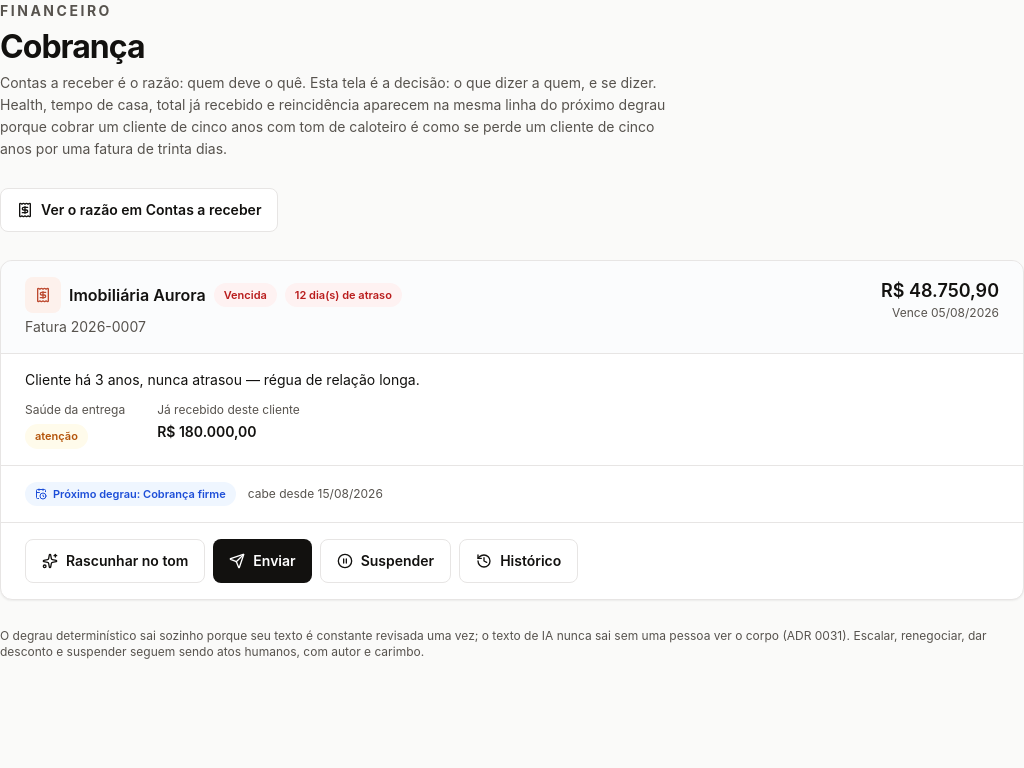
Test: o 503 do envio tem texto próprio: diz que a régua está desligada e onde ligá-la
This screenshot has width=1024, height=768.
Click the button with aria-label "Enviar cobrança".
click(262, 561)  # box top-left (213, 539), bottom-right (312, 583)
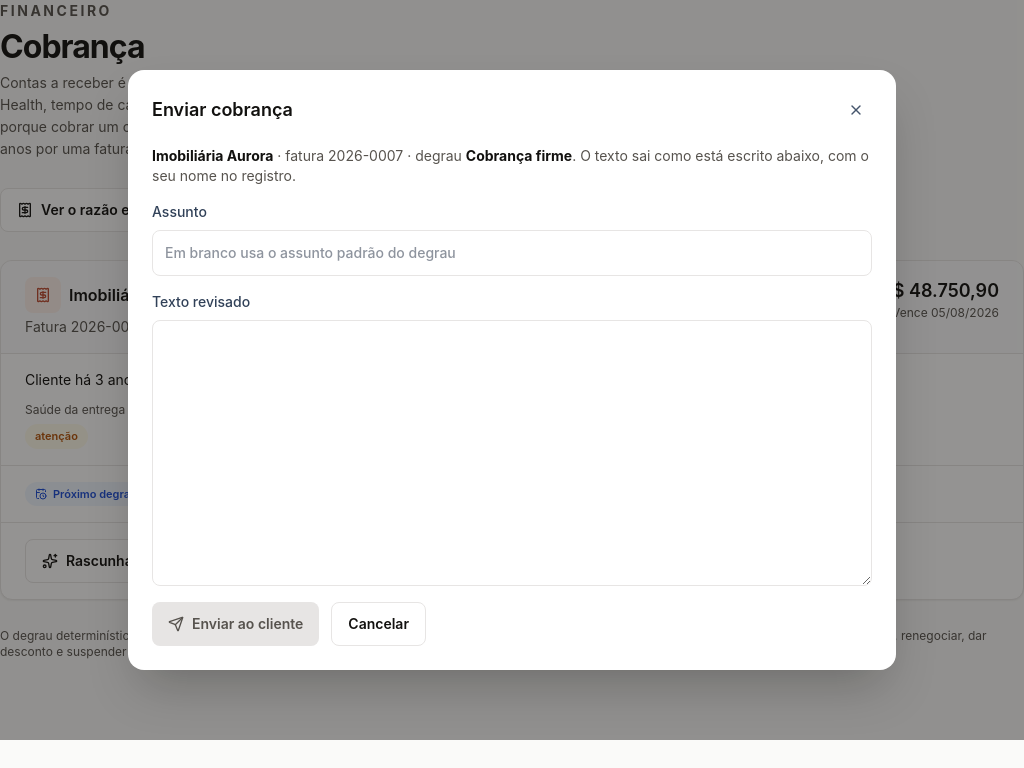
Type "Texto" into the text box labelled "Texto revisado".
click(512, 453); type("Texto")  # box top-left (152, 320), bottom-right (872, 586)
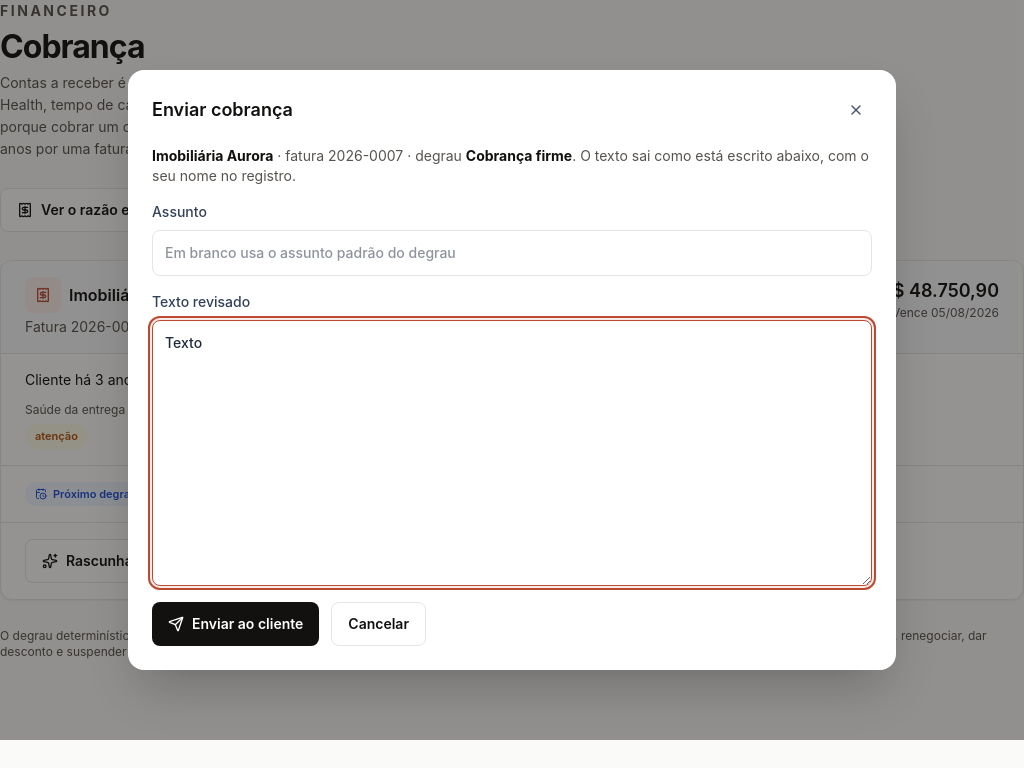
Click the button "Enviar ao cliente".
click(236, 624)  # box top-left (152, 602), bottom-right (319, 646)
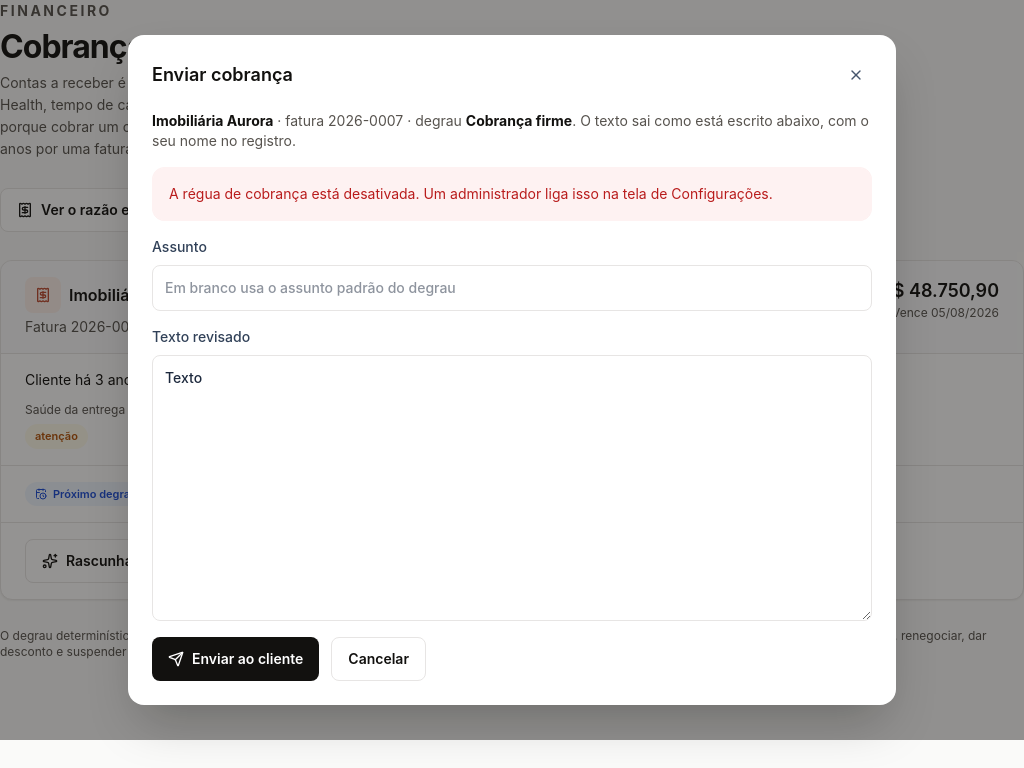
Now the message shows "A régua de cobrança está desativada. Um administrador liga isso na tela de Configurações.", box top-left (169, 185), bottom-right (773, 202)
